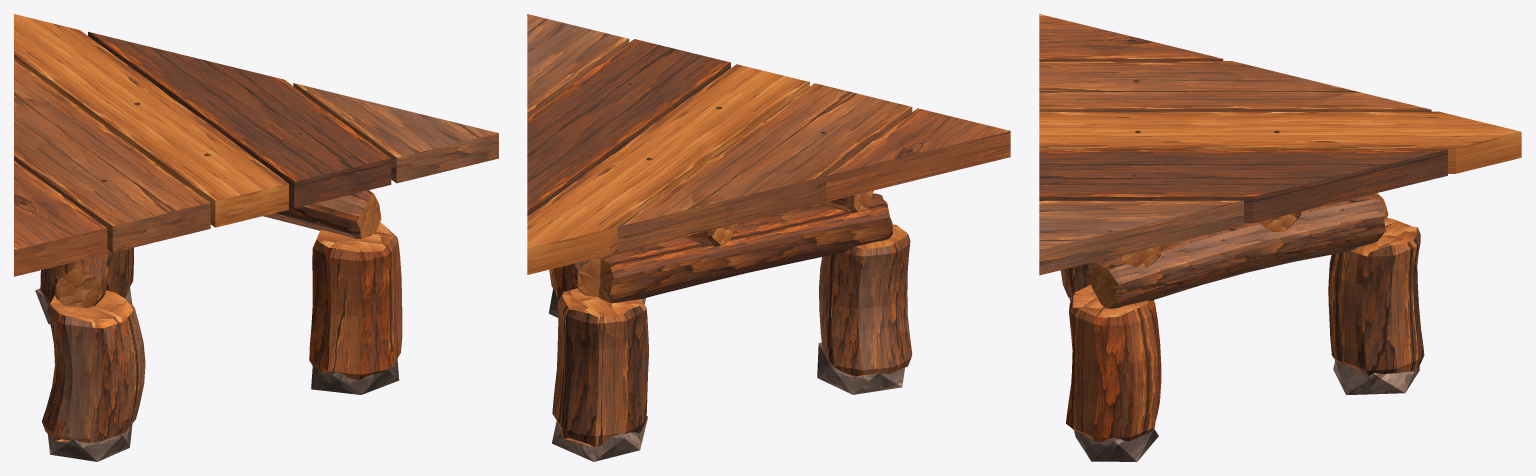
File: foundation_triangle__plank_root.glb
3 renders of one model, left to right at view 1: azimuth 30°, elevation 25°; view 2: azimuth 150°, elevation 25°; view 3: azimuth 270°, elevation 25°, orthographic.
Visible parts, largest first — view 1: model; view 2: model; view 3: model.
Part boxes in pixels (x1=…): model: x1=14, y1=14, x2=498, y2=461; model: x1=527, y1=14, x2=1010, y2=461; model: x1=1039, y1=14, x2=1521, y2=461.
Bounding box in the file's own units: 1.98 × 0.99 × 1.71.
Materials: 20 (20 with a texture image).
